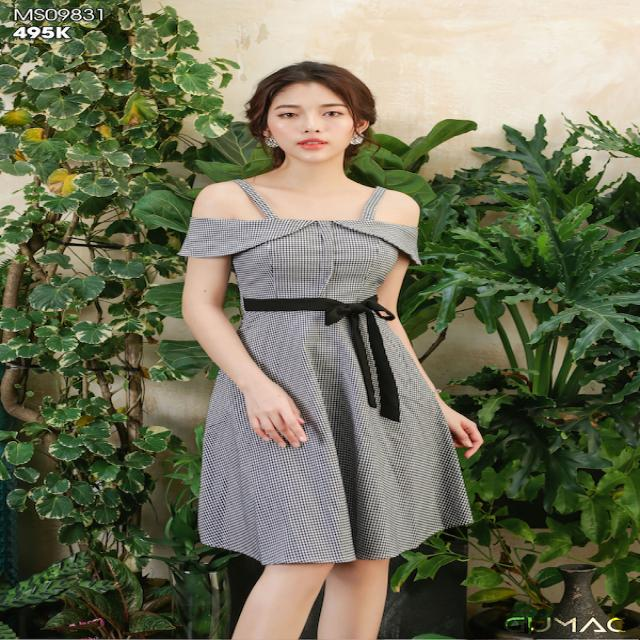clothes: (183, 173, 475, 567)
